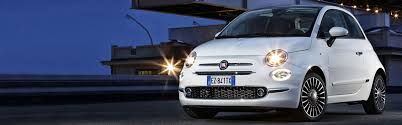car: (176, 5, 386, 116)
